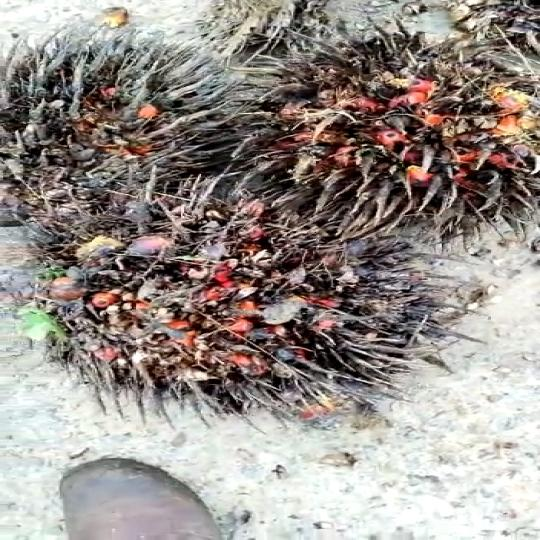terlalu masak: (2, 201, 456, 394), (231, 27, 540, 221), (0, 44, 259, 218)
